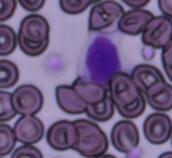L: (76, 29, 127, 87)
